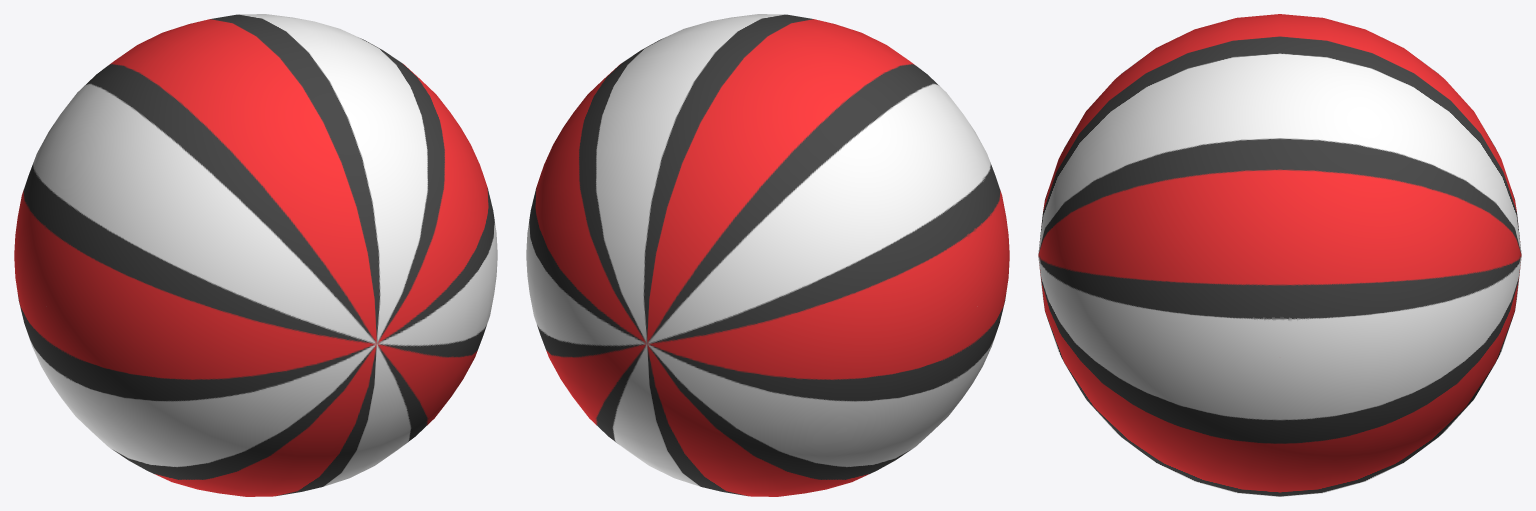
Rendered from Ball.fbx.
3 views of the same model, side by side, from view 1: azimuth 30°, elevation 25°; view 2: azimuth 150°, elevation 25°; view 3: azimuth 270°, elevation 25° (orthographic).
Parts seen in each view (by area): view 1: MAIN BALL; view 2: MAIN BALL; view 3: MAIN BALL.
Part boxes in pixels (<box>): MAIN BALL: <box>14,14,497,496</box>; MAIN BALL: <box>526,14,1009,496</box>; MAIN BALL: <box>1038,14,1521,496</box>.
Bounding box in the file's own units: 200 × 200 × 200.
